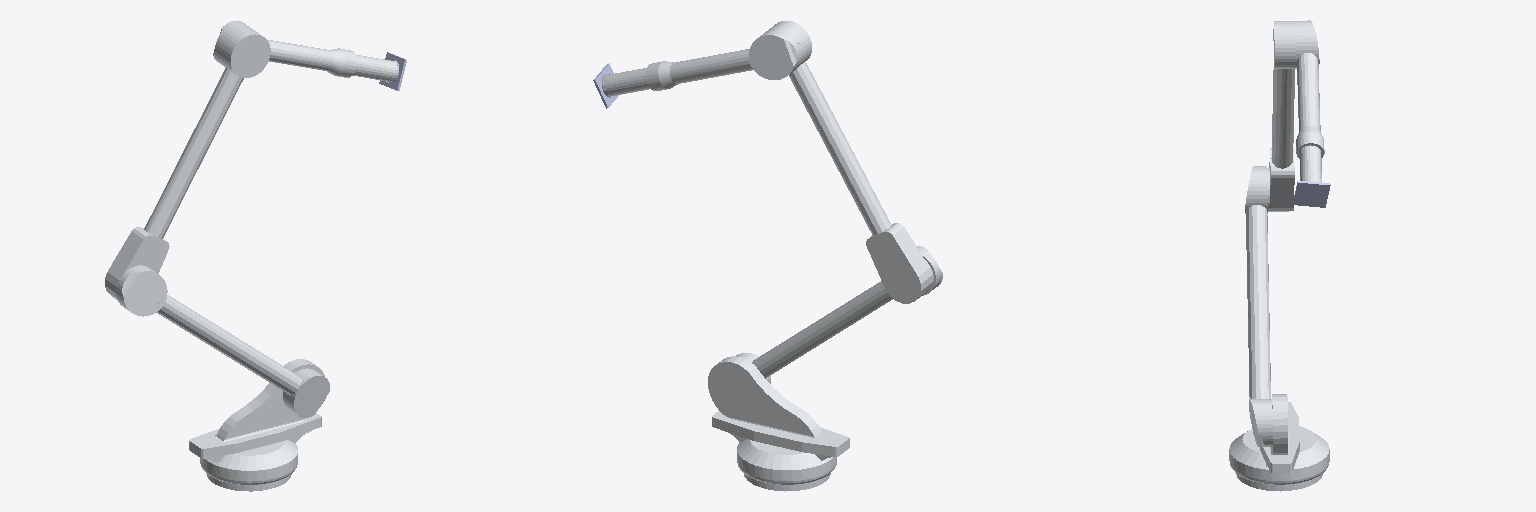
URDF robot description (larger-arm):
<?xml version="1.0" encoding="utf-8"?>
<!-- This URDF was automatically created by SolidWorks to URDF Exporter! Originally created by [author] ([email redacted]) 
     Commit Version: 1.6.0-4-g7f85cfe  Build Version: 1.6.7995.38578
     For more information, please see http://wiki.ros.org/sw_urdf_exporter -->
<robot
  name="larger-arm">
  <link
    name="base_link">
    <inertial>
      <origin
        xyz="-4.38459742593246E-34 0.0907710280373832 -7.13881493679544E-18"
        rpy="0 0 0" />
      <mass
        value="181.521223524418" />
      <inertia
        ixx="5.51881445393319"
        ixy="-1.01727216834597E-32"
        ixz="-1.3215053740922E-32"
        iyy="9.88972581951903"
        iyz="-1.58279641776445E-16"
        izz="5.51881445393319" />
    </inertial>
    <visual>
      <origin
        xyz="0 0 0"
        rpy="0 0 0" />
      <geometry>
        <mesh
          filename="package://larger-arm/meshes/base_link.STL" />
      </geometry>
      <material
        name="">
        <color
          rgba="0.898039215686275 0.917647058823529 0.929411764705882 1" />
      </material>
    </visual>
    <collision>
      <origin
        xyz="0 0 0"
        rpy="0 0 0" />
      <geometry>
        <mesh
          filename="package://larger-arm/meshes/base_link.STL" />
      </geometry>
    </collision>
  </link>
  <link
    name="link0">
    <inertial>
      <origin
        xyz="0.0355178791462037 0.157139821707824 0.0012213422393444"
        rpy="0 0 0" />
      <mass
        value="98.504121014725" />
      <inertia
        ixx="1.9913098332571"
        ixy="-0.692627636667403"
        ixz="-0.0182045043341852"
        iyy="2.9024659203972"
        iyz="-0.0227191786389093"
        izz="3.21938649305015" />
    </inertial>
    <visual>
      <origin
        xyz="0 0 0"
        rpy="0 0 0" />
      <geometry>
        <mesh
          filename="package://larger-arm/meshes/link0.STL" />
      </geometry>
      <material
        name="">
        <color
          rgba="0.898039215686275 0.917647058823529 0.929411764705882 1" />
      </material>
    </visual>
    <collision>
      <origin
        xyz="0 0 0"
        rpy="0 0 0" />
      <geometry>
        <mesh
          filename="package://larger-arm/meshes/link0.STL" />
      </geometry>
    </collision>
  </link>
  <joint
    name="joint0"
    type="revolute">
    <origin
      xyz="0 0 0.2"
      rpy="1.5708 0 0.023788" />
    <parent
      link="base_link" />
    <child
      link="link0" />
    <axis
      xyz="0 1 0" />
    <limit
      lower="-3.14"
      upper="3.14"
      effort="4000"
      velocity="100" />
  </joint>
  <link
    name="link1">
    <inertial>
      <origin
        xyz="-0.592743597484973 -0.0800705727166844 -1.15032171565943E-08"
        rpy="0 0 0" />
      <mass
        value="18.3302560062681" />
      <inertia
        ixx="0.0650826160951017"
        ixy="-1.38814395752879E-09"
        ixz="1.46180244666728E-08"
        iyy="0.743748011122561"
        iyz="-7.51727039990935E-10"
        izz="0.709580436864478" />
    </inertial>
    <visual>
      <origin
        xyz="0 0 0"
        rpy="0 0 0" />
      <geometry>
        <mesh
          filename="package://larger-arm/meshes/link1.STL" />
      </geometry>
      <material
        name="">
        <color
          rgba="0.898039215686275 0.917647058823529 0.929411764705882 1" />
      </material>
    </visual>
    <collision>
      <origin
        xyz="0 0 0"
        rpy="0 0 0" />
      <geometry>
        <mesh
          filename="package://larger-arm/meshes/link1.STL" />
      </geometry>
    </collision>
  </link>
  <joint
    name="joint1"
    type="revolute">
    <origin
      xyz="0.26922 0.38863 0.010954"
      rpy="-1.5708 0 -0.69004" />
    <parent
      link="link0" />
    <child
      link="link1" />
    <axis
      xyz="0 1 0" />
    <limit
      lower="-3.14"
      upper="3.14"
      effort="4000"
      velocity="100" />
  </joint>
  <link
    name="link2">
    <inertial>
      <origin
        xyz="0.504677639134419 0.0302850585645254 3.4538243376403E-09"
        rpy="0 0 0" />
      <mass
        value="39.798963686691" />
      <inertia
        ixx="0.163333124103185"
        ixy="-0.0775768385846764"
        ixz="-6.24475532585056E-08"
        iyy="2.92539458142523"
        iyz="-2.71775464633084E-09"
        izz="2.90405278047831" />
    </inertial>
    <visual>
      <origin
        xyz="0 0 0"
        rpy="0 0 0" />
      <geometry>
        <mesh
          filename="package://larger-arm/meshes/link2.STL" />
      </geometry>
      <material
        name="">
        <color
          rgba="0.898039215686275 0.917647058823529 0.929411764705882 1" />
      </material>
    </visual>
    <collision>
      <origin
        xyz="0 0 0"
        rpy="0 0 0" />
      <geometry>
        <mesh
          filename="package://larger-arm/meshes/link2.STL" />
      </geometry>
    </collision>
  </link>
  <joint
    name="joint2"
    type="revolute">
    <origin
      xyz="-1.1822 0 0"
      rpy="3.1416 -1.4337 -3.1416" />
    <parent
      link="link1" />
    <child
      link="link2" />
    <axis
      xyz="0 1 0" />
    <limit
      lower="-3.14"
      upper="3.14"
      effort="4000"
      velocity="100" />
  </joint>
  <link
    name="link3">
    <inertial>
      <origin
        xyz="-0.221483196539127 -0.0837151094996036 -8.34939815064217E-08"
        rpy="0 0 0" />
      <mass
        value="10.7350306805923" />
      <inertia
        ixx="0.0375046786503963"
        ixy="-0.0021369481187791"
        ixz="8.73076643111057E-09"
        iyy="0.221795934902841"
        iyz="3.50529072206058E-08"
        izz="0.204712122185334" />
    </inertial>
    <visual>
      <origin
        xyz="0 0 0"
        rpy="0 0 0" />
      <geometry>
        <mesh
          filename="package://larger-arm/meshes/link3.STL" />
      </geometry>
      <material
        name="">
        <color
          rgba="0.898039215686275 0.917647058823529 0.929411764705882 1" />
      </material>
    </visual>
    <collision>
      <origin
        xyz="0 0 0"
        rpy="0 0 0" />
      <geometry>
        <mesh
          filename="package://larger-arm/meshes/link3.STL" />
      </geometry>
    </collision>
  </link>
  <joint
    name="joint3"
    type="revolute">
    <origin
      xyz="1.2107 0.053378 0"
      rpy="0 -1.4003 -3.1416" />
    <parent
      link="link2" />
    <child
      link="link3" />
    <axis
      xyz="0 1 0" />
    <limit
      lower="-3.14"
      upper="3.14"
      effort="4000"
      velocity="100" />
  </joint>
  <link
    name="link4">
    <inertial>
      <origin
        xyz="4.44089209850063E-16 0.122823205563208 -6.7168492989822E-15"
        rpy="0 0 0" />
      <mass
        value="2.62527190097231" />
      <inertia
        ixx="0.0283654696913978"
        ixy="-3.83993069275317E-16"
        ixz="-8.67361737988404E-19"
        iyy="0.00529698439534632"
        iyz="-5.21094669150846E-17"
        izz="0.0283654696913978" />
    </inertial>
    <visual>
      <origin
        xyz="0 0 0"
        rpy="0 0 0" />
      <geometry>
        <mesh
          filename="package://larger-arm/meshes/link4.STL" />
      </geometry>
      <material
        name="">
        <color
          rgba="0.898039215686275 0.917647058823529 0.929411764705882 1" />
      </material>
    </visual>
    <collision>
      <origin
        xyz="0 0 0"
        rpy="0 0 0" />
      <geometry>
        <mesh
          filename="package://larger-arm/meshes/link4.STL" />
      </geometry>
    </collision>
  </link>
  <joint
    name="joint4"
    type="revolute">
    <origin
      xyz="-0.65894 -0.084381 0"
      rpy="-3.1416 1.5092 -1.5708" />
    <parent
      link="link3" />
    <child
      link="link4" />
    <axis
      xyz="0 1 0" />
    <limit
      lower="-3.14"
      upper="3.14"
      effort="4000"
      velocity="100" />
  </joint>
  <link
    name="end_effector">
    <inertial>
      <origin
        xyz="4.44089209850063E-16 0.0119748663087799 2.52575738102223E-15"
        rpy="0 0 0" />
      <mass
        value="0.0458831332838263" />
      <inertia
        ixx="0.000111089708199407"
        ixy="1.48672811088851E-18"
        ixz="4.98055372985529E-19"
        iyy="0.000219133862355334"
        iyz="-1.68771314740419E-19"
        izz="0.000111089708199408" />
    </inertial>
    <visual>
      <origin
        xyz="0 0 0"
        rpy="0 0 0" />
      <geometry>
        <mesh
          filename="package://larger-arm/meshes/end_effector.STL" />
      </geometry>
      <material
        name="">
        <color
          rgba="0.792156862745098 0.819607843137255 0.933333333333333 1" />
      </material>
    </visual>
    <collision>
      <origin
        xyz="0 0 0"
        rpy="0 0 0" />
      <geometry>
        <mesh
          filename="package://larger-arm/meshes/end_effector.STL" />
      </geometry>
    </collision>
  </link>
  <joint
    name="joint5"
    type="revolute">
    <origin
      xyz="0 0.2695 0"
      rpy="0 -0.20586 0" />
    <parent
      link="link4" />
    <child
      link="end_effector" />
    <axis
      xyz="0 1 0" />
    <limit
      lower="-3.14"
      upper="3.14"
      effort="4000"
      velocity="100" />
  </joint>
</robot>

--- Render facts (derived) ---
3 views of the same robot in one strip: view 1: azimuth 30°, elevation 25°; view 2: azimuth 150°, elevation 25°; view 3: azimuth 270°, elevation 25° (orthographic).
Model larger-arm with 7 links and 6 joints (6 revolute), rooted at base_link, posed all joints at 0.
Links seen in each view (by area): view 1: link0, link2, link1, link3, link4; view 2: link0, link2, link3, link1, link4; view 3: link1, link0, link2, link3, end_effector, link4.
Link boxes in pixels (x1=…): link0: x1=189, y1=359, x2=324, y2=491; link2: x1=105, y1=27, x2=270, y2=299; link1: x1=116, y1=265, x2=329, y2=417; link3: x1=213, y1=20, x2=357, y2=77; link4: x1=353, y1=55, x2=397, y2=81; link0: x1=708, y1=356, x2=849, y2=491; link2: x1=769, y1=21, x2=933, y2=303; link3: x1=646, y1=29, x2=801, y2=90; link1: x1=736, y1=246, x2=942, y2=383; link4: x1=604, y1=68, x2=650, y2=96; link1: x1=1245, y1=166, x2=1272, y2=446; link0: x1=1229, y1=394, x2=1329, y2=491; link2: x1=1267, y1=21, x2=1295, y2=211; link3: x1=1296, y1=20, x2=1324, y2=158; end_effector: x1=1293, y1=181, x2=1330, y2=207; link4: x1=1300, y1=145, x2=1321, y2=182.
Size in the robot's own frame: 1.65 by 0.4641 by 2.28 metres.
6 mesh visuals loaded from 7 distinct referenced files (6 binary STL); not drawn: 1 (reference not matched to a file when rendering).